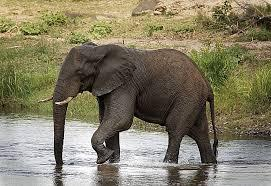elephant: (39, 43, 217, 165)
